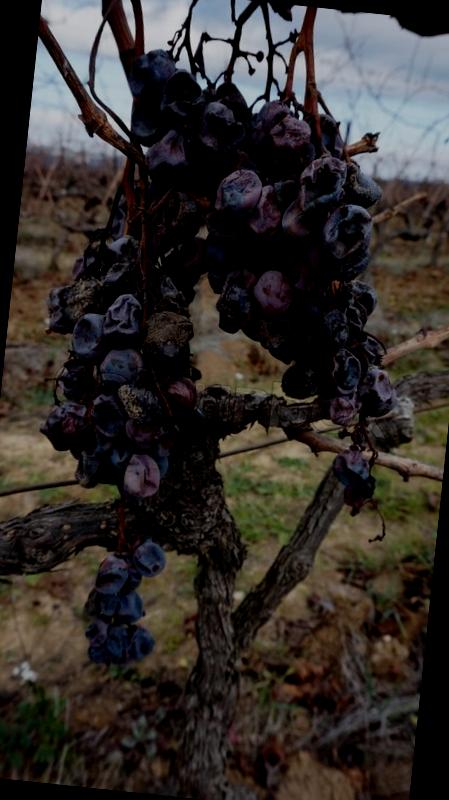Grape Rotten: (10, 38, 432, 692)
